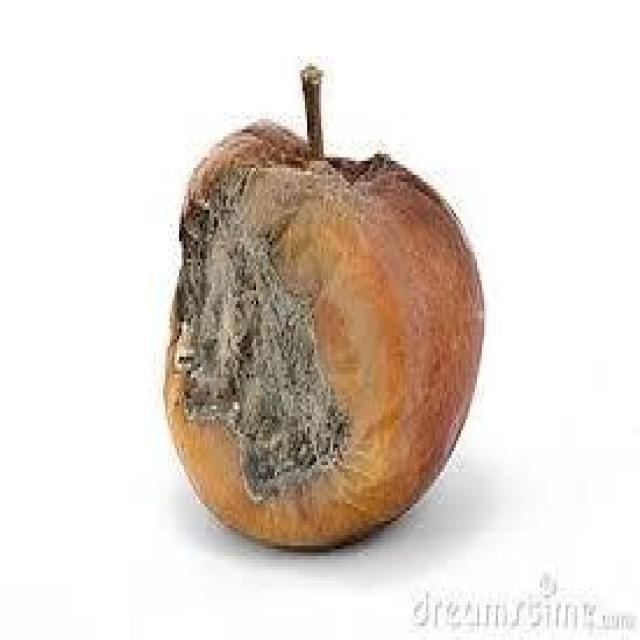organic: (161, 66, 486, 556)
